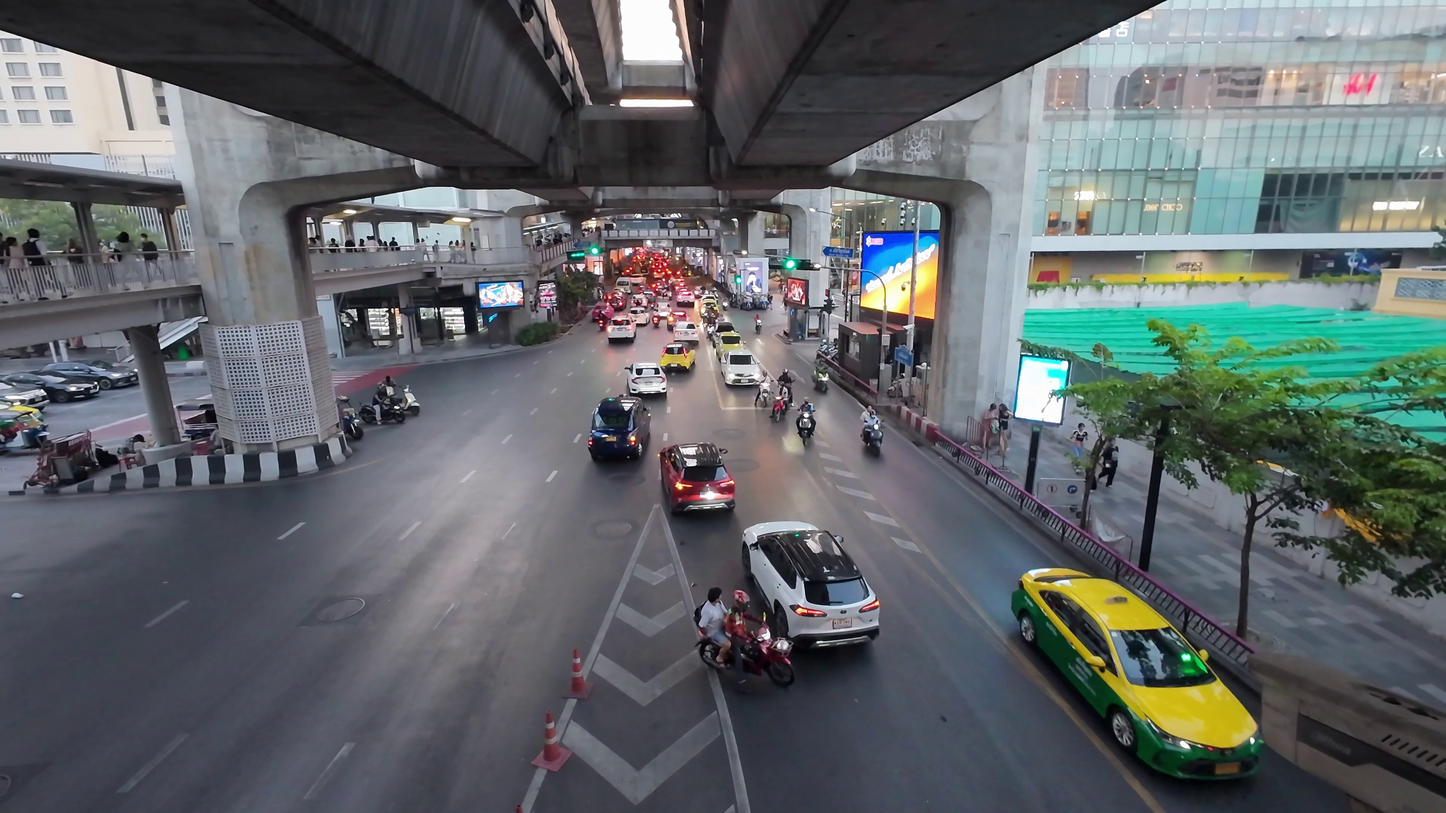license_plate: (1073, 696, 1201, 765), (1074, 696, 1200, 766), (775, 598, 846, 640), (721, 662, 771, 687), (677, 486, 717, 508), (601, 438, 631, 459), (38, 386, 87, 397), (732, 373, 753, 385), (636, 385, 657, 396)
motorcycle: (696, 592, 796, 692)
no_helmet: (692, 579, 731, 608)
no_seatbelt: (1048, 599, 1227, 707), (1049, 598, 1225, 707), (760, 539, 860, 604), (669, 454, 725, 489), (595, 408, 638, 441), (28, 370, 97, 388), (632, 368, 662, 387), (728, 357, 757, 375)
person: (696, 586, 728, 665)
